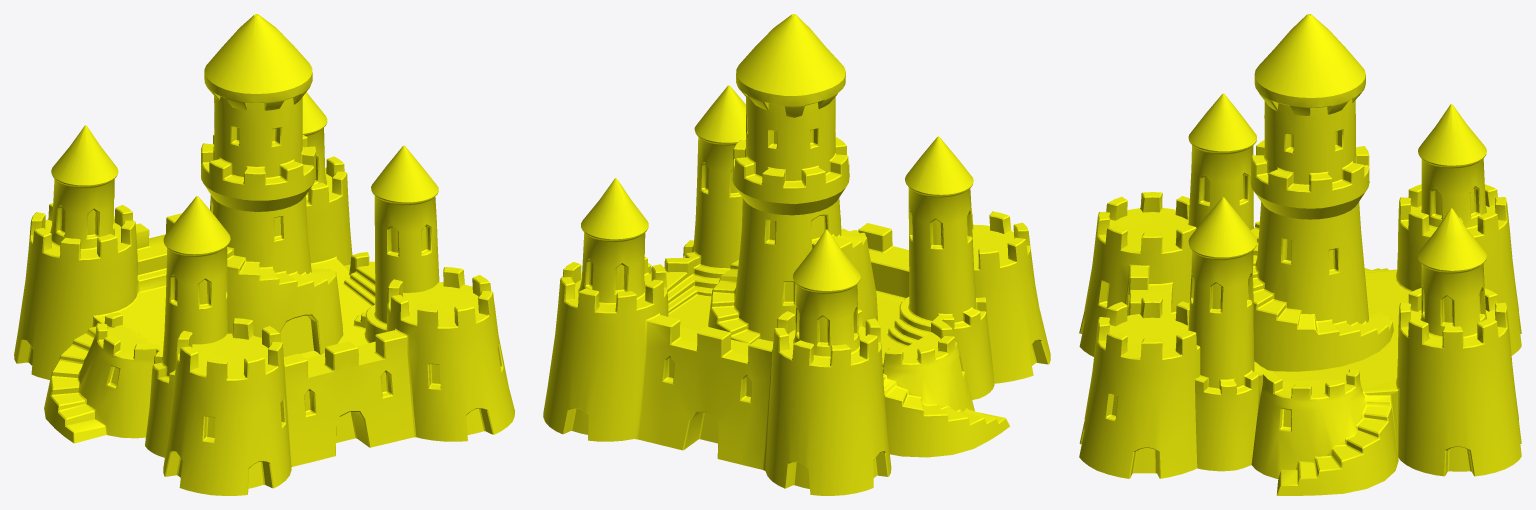
File: decor-sandcastle.glb
3 views of the same model, side by side, from view 1: azimuth 30°, elevation 25°; view 2: azimuth 150°, elevation 25°; view 3: azimuth 270°, elevation 25° (orthographic). The views are drawn at different scales.
Parts seen in each view (by area): view 1: Cylinder.001, Cylinder.002; view 2: Cylinder.001, Cylinder.002; view 3: Cylinder.001, Cylinder.002.
Boxes of the visible parts, left/top/right/bottom form: Cylinder.001: left=14, top=92, right=514, bottom=495; Cylinder.002: left=201, top=14, right=343, bottom=356; Cylinder.001: left=543, top=85, right=1050, bottom=495; Cylinder.002: left=708, top=14, right=877, bottom=343; Cylinder.001: left=1079, top=93, right=1521, bottom=495; Cylinder.002: left=1250, top=14, right=1393, bottom=371.
Bounding box in the file's own units: 9.07 × 7.95 × 8.42.
Materials: 1 (1 with a texture image).
